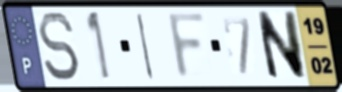1: (84, 9, 113, 84)
7: (222, 16, 253, 77)
F: (166, 10, 210, 83)
I: (135, 10, 156, 82)
N: (254, 9, 308, 83)
S: (35, 10, 83, 84)
